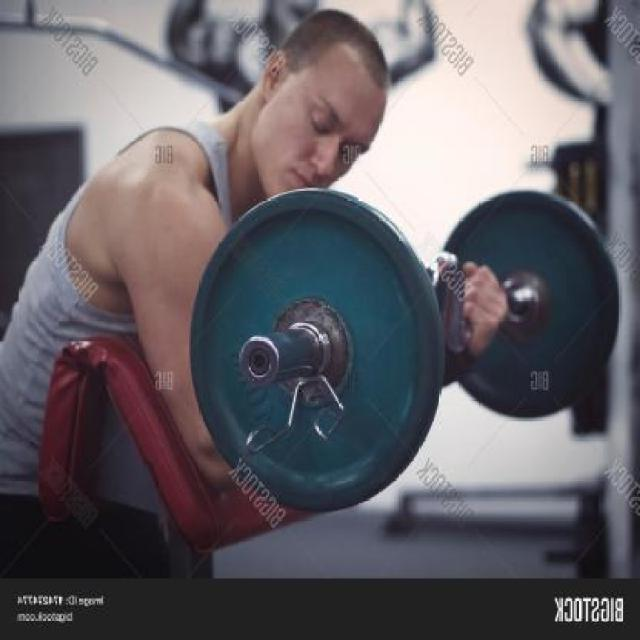Barbell: (236, 328, 286, 392)
